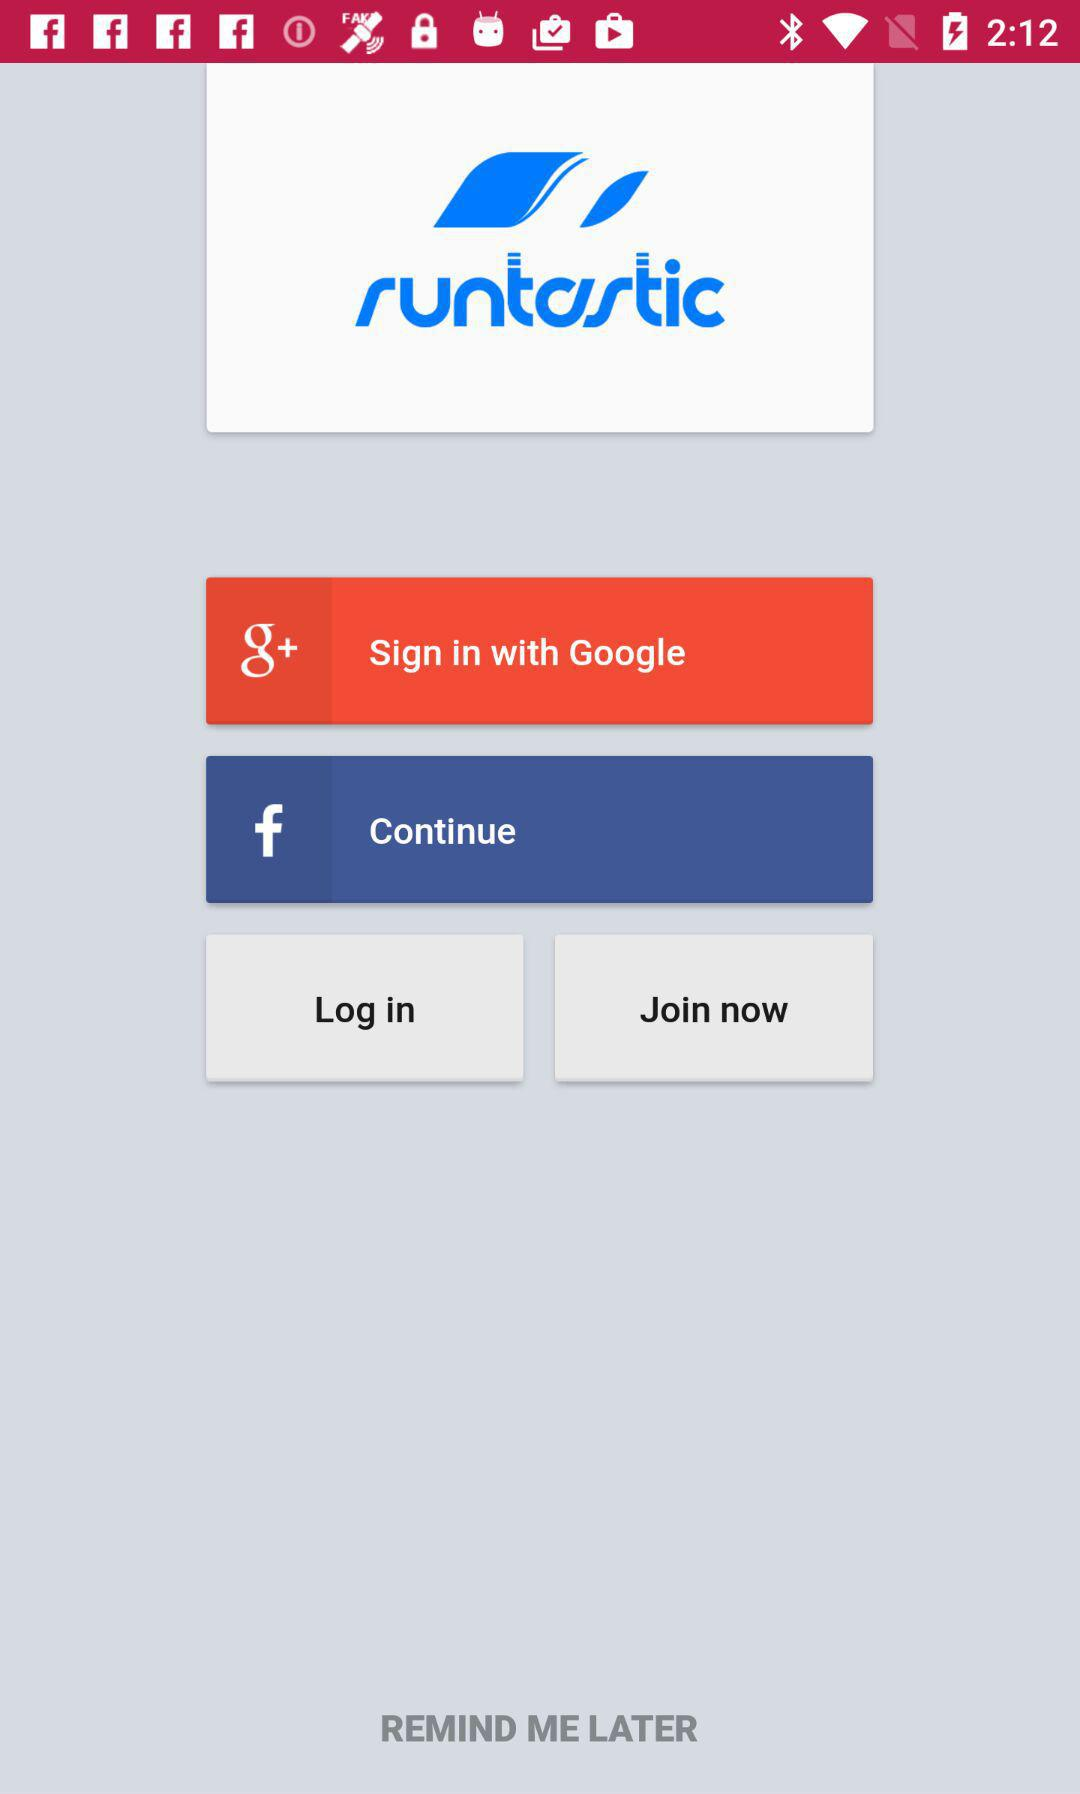Image: (208, 65, 875, 434)
Text: (382, 1715, 700, 1743)
TextButton: (206, 577, 874, 725), (206, 756, 874, 903), (206, 934, 525, 1083), (555, 935, 874, 1083)
UpperTaskBar: (1, 1, 1080, 64)
